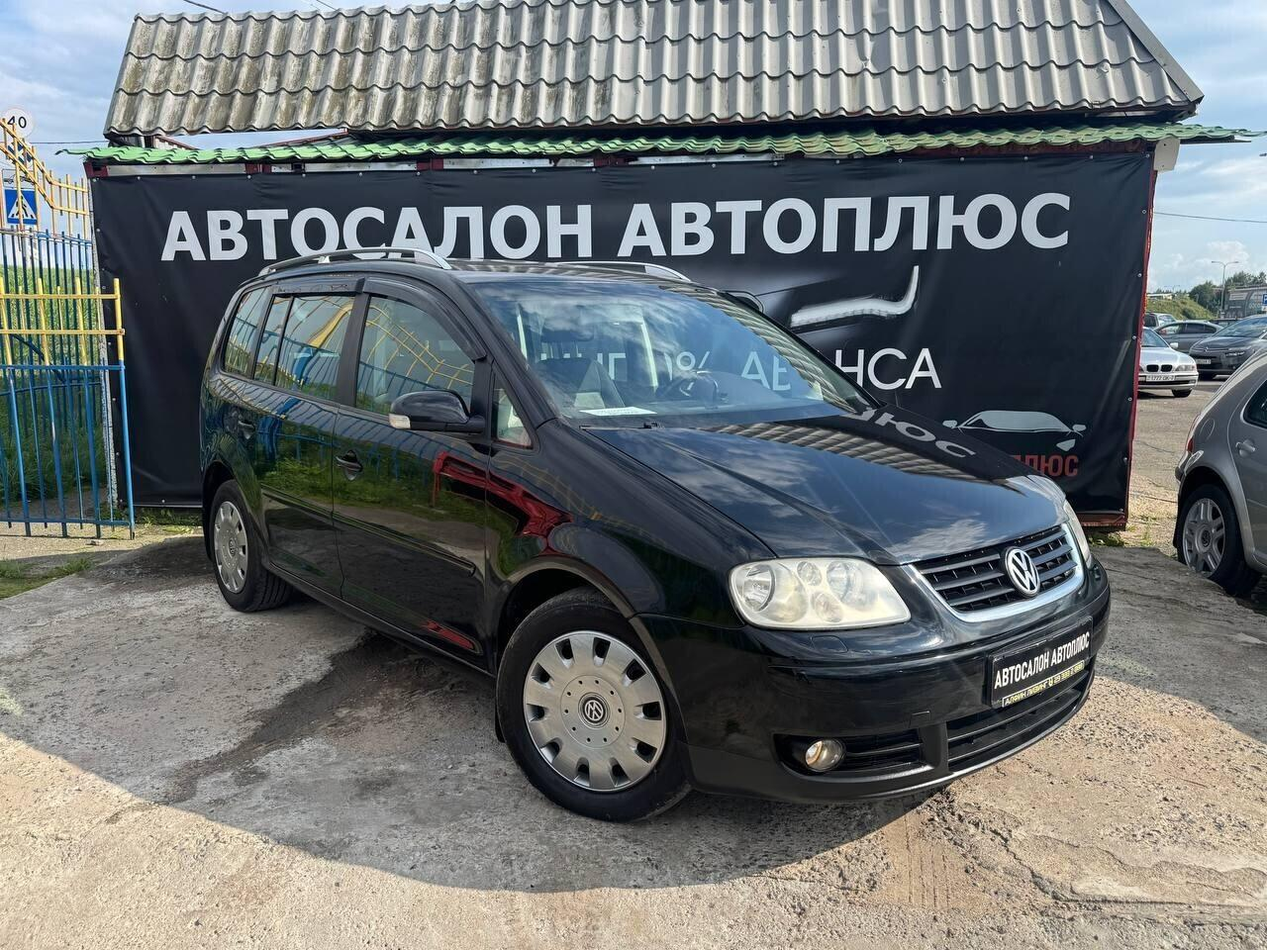Touran_2003-2006: (194, 259, 1114, 820)
